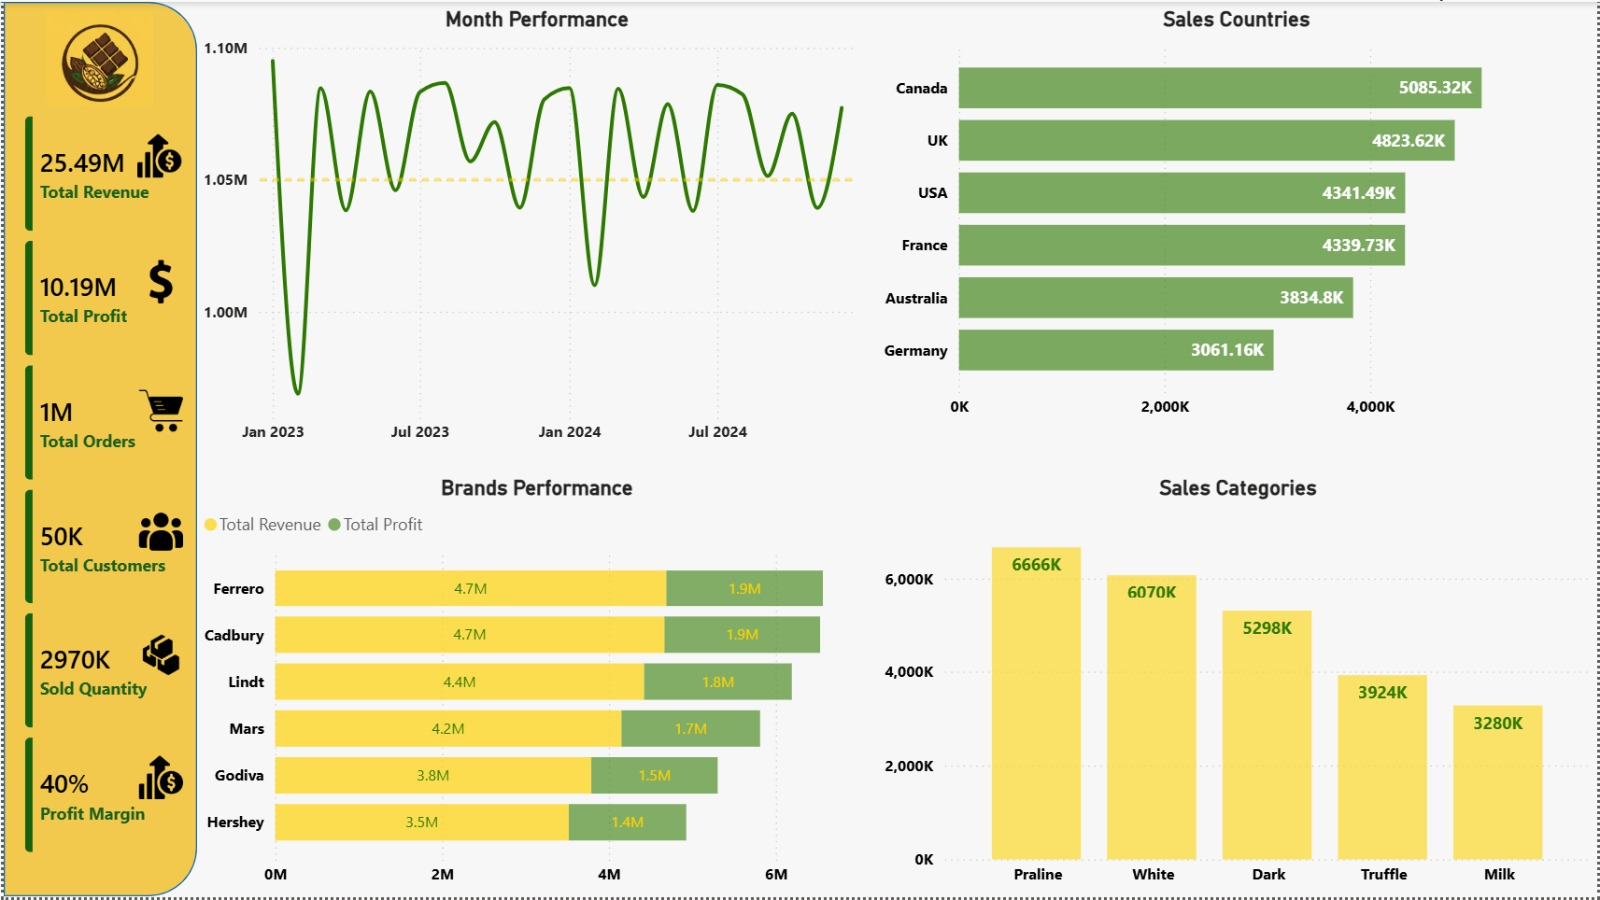

The dashboard page shown, as its layout file describes it:
{"tool":"powerbi","page":{"name":"Executive Overview","canvas":[1280,720],"ordinal":1},"visuals":[{"type":"shape","box":[0,0,155.3,719.5],"z":0},{"type":"lineChart","title":"Month Performance","fields":{"Category":["Monthly_Revenue_Growth.Date"],"Y":["Sum(Monthly_Revenue_Growth.TotalRevenue)"]},"box":[154.6,4.5,547,359.7],"z":1000},{"type":"cardVisual","fields":{"Data":["Sum(Total_Revenue.TotalRevenue)","Sum(Total_Profit.TotalProfit)","Sum(Total_Orders.TotalOrders)","Sum(Total_Customers.TotalCustomers)","Top_Products_By_Brand.Sold Quantity","Min(Profit_Margin.ProfirMargin)"]},"box":[0,74.3,173.9,630.2],"z":3000},{"type":"barChart","title":"Brands Performance","fields":{"Category":["Brand_Performance_Analysis.brand"],"Y":["Sum(Brand_Performance_Analysis.TotalRevenue)","Sum(Brand_Performance_Analysis.TotalProfit)"]},"box":[154.6,380.5,547,338.9],"z":4000},{"type":"clusteredBarChart","title":"Sales Countries","fields":{"Category":["Total_Sales_By_Country.country"],"Y":["Sum(Total_Sales_By_Country.TotalSalesForCountry)"]},"box":[701.6,4.5,578.2,338.9],"z":5000},{"type":"columnChart","title":"Sales Categories","fields":{"Category":["Total_Sales_By_Category.category"],"Y":["Sum(Total_Sales_By_Category.TotalSalesForCategory)"]},"box":[702,381,578,339],"z":6000},{"type":"image","box":[106.7,408.6,40,35],"z":7000},{"type":"image","box":[106.7,311.5,40,35],"z":8000},{"type":"image","box":[106.7,606.5,40,35],"z":9000},{"type":"image","box":[106.7,208,40,35],"z":10000},{"type":"image","box":[106.7,508.2,40,35],"z":11000},{"type":"image","box":[105.4,105.8,40,35],"z":12000},{"type":"image","box":[34.3,4.3,85.7,84.3],"z":12001}]}

Visuals, with their boxes in screenshot pixels (x1, y1, x2, y2), scaled from the page's 1280x720 canvas onto the 1600x900 screenshot:
shape: <bbox>0, 0, 194, 899</bbox>
"Month Performance" lineChart: <bbox>193, 6, 877, 455</bbox>
cardVisual - Sum(Total_Revenue.TotalRevenue) x Sum(Total_Profit.TotalProfit): <bbox>0, 93, 217, 881</bbox>
"Brands Performance" barChart: <bbox>193, 476, 877, 899</bbox>
"Sales Countries" clusteredBarChart: <bbox>877, 6, 1599, 429</bbox>
"Sales Categories" columnChart: <bbox>878, 476, 1599, 899</bbox>
image: <bbox>133, 511, 183, 554</bbox>
image: <bbox>133, 389, 183, 433</bbox>
image: <bbox>133, 758, 183, 802</bbox>
image: <bbox>133, 260, 183, 304</bbox>
image: <bbox>133, 635, 183, 679</bbox>
image: <bbox>132, 132, 182, 176</bbox>
image: <bbox>43, 5, 150, 111</bbox>
